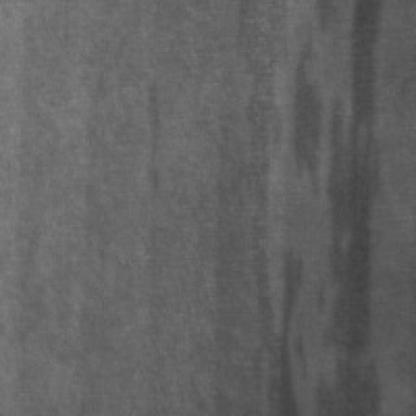inclusion: (290, 6, 388, 416), (266, 247, 314, 416), (140, 79, 174, 198)
